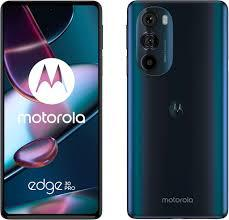Smartphone: (125, 4, 224, 213), (4, 3, 99, 218)
